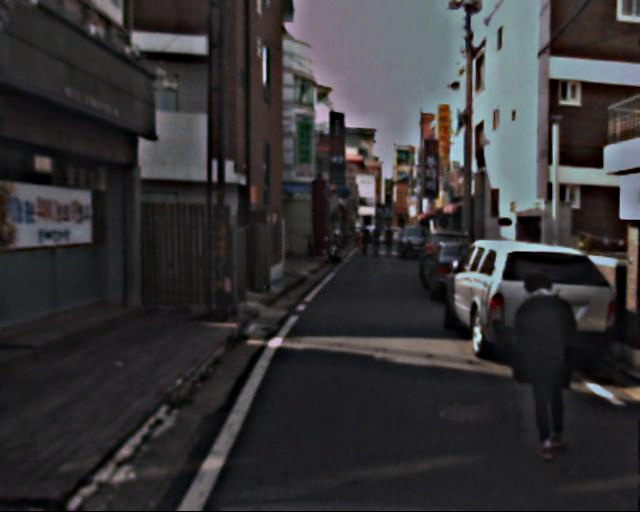person: (500, 266, 583, 460), (364, 225, 397, 264)
